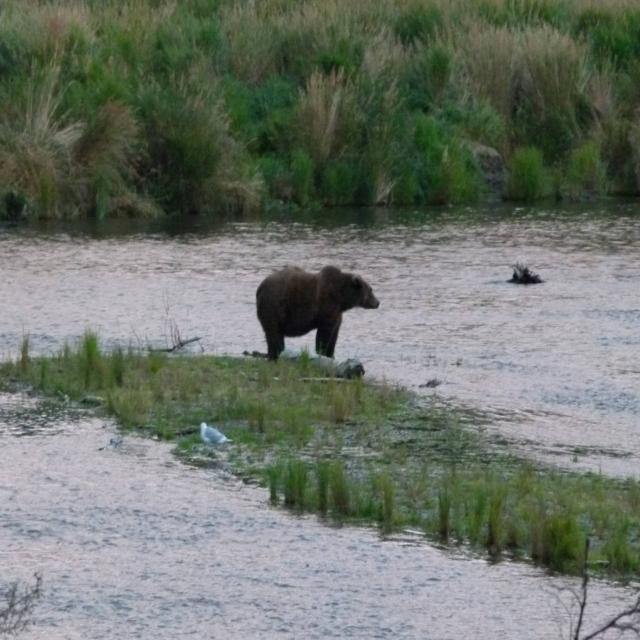bear face: (260, 268, 383, 350)
